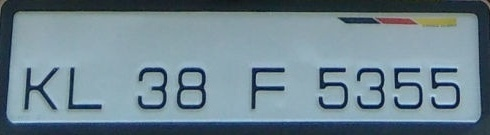character: (66, 64, 104, 111), (24, 65, 59, 114), (251, 65, 286, 111), (393, 65, 424, 111), (429, 66, 461, 109), (137, 66, 168, 109), (317, 65, 348, 108), (356, 66, 386, 110), (177, 67, 206, 110)
